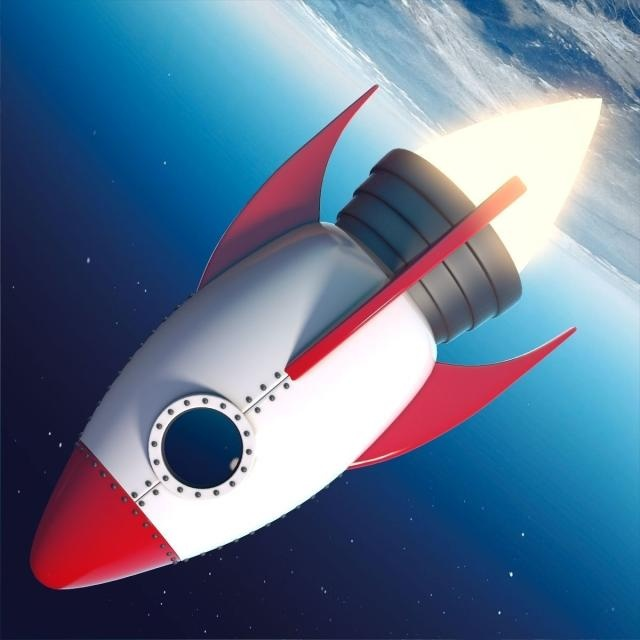medium_debris: (389, 92, 604, 280)
